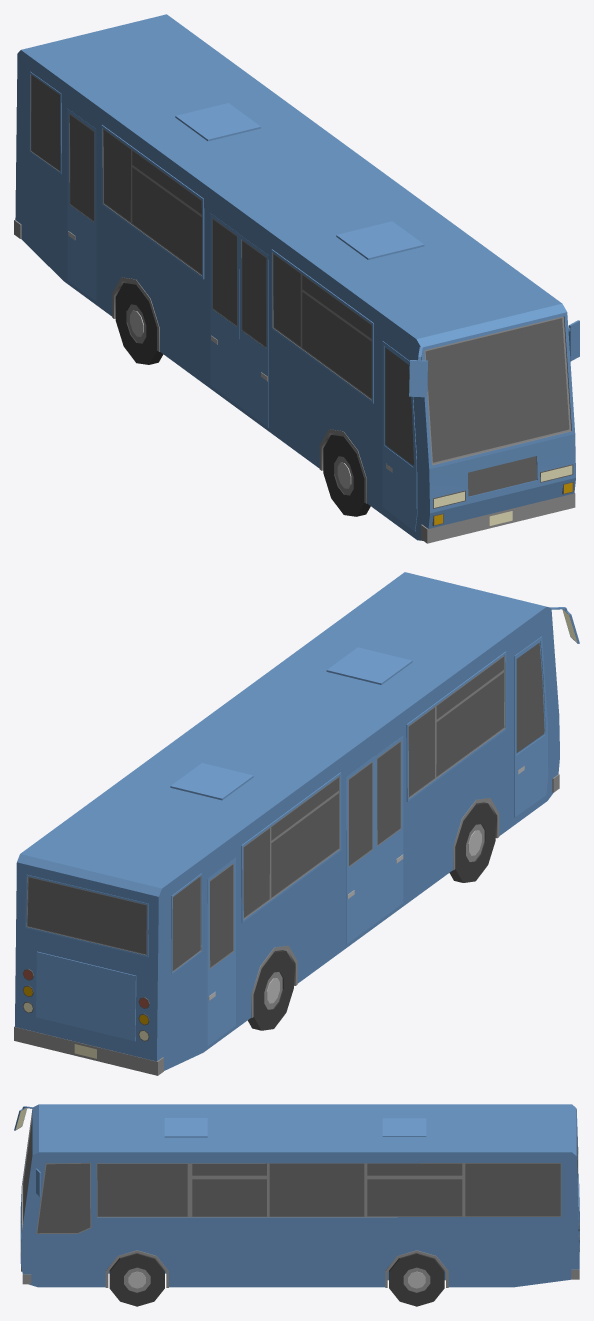
File: bus.fbx
The picture shows the model from 3 angles, top to bottom: view 1: azimuth 30°, elevation 25°; view 2: azimuth 150°, elevation 25°; view 3: azimuth 270°, elevation 25°; orthographic projection. The views are drawn at different scales.
Parts seen in each view (by area): view 1: vty, Cylinder_2_3, Cylinder_2_1; view 2: vty, Cylinder_2_1, Cylinder_2_3; view 3: vty, Cylinder_2, Cylinder_2_2.
Boxes of the visible parts, x1=… form: vty: x1=14, y1=14, x2=579, y2=543; Cylinder_2_3: x1=115, y1=282, x2=163, y2=364; Cylinder_2_1: x1=323, y1=434, x2=370, y2=516; vty: x1=14, y1=572, x2=579, y2=1075; Cylinder_2_1: x1=449, y1=802, x2=495, y2=882; Cylinder_2_3: x1=248, y1=950, x2=293, y2=1030; vty: x1=14, y1=1104, x2=579, y2=1287; Cylinder_2: x1=109, y1=1253, x2=164, y2=1306; Cylinder_2_2: x1=389, y1=1253, x2=444, y2=1306.
Size of the model in its own units: 219 by 261 by 862.
